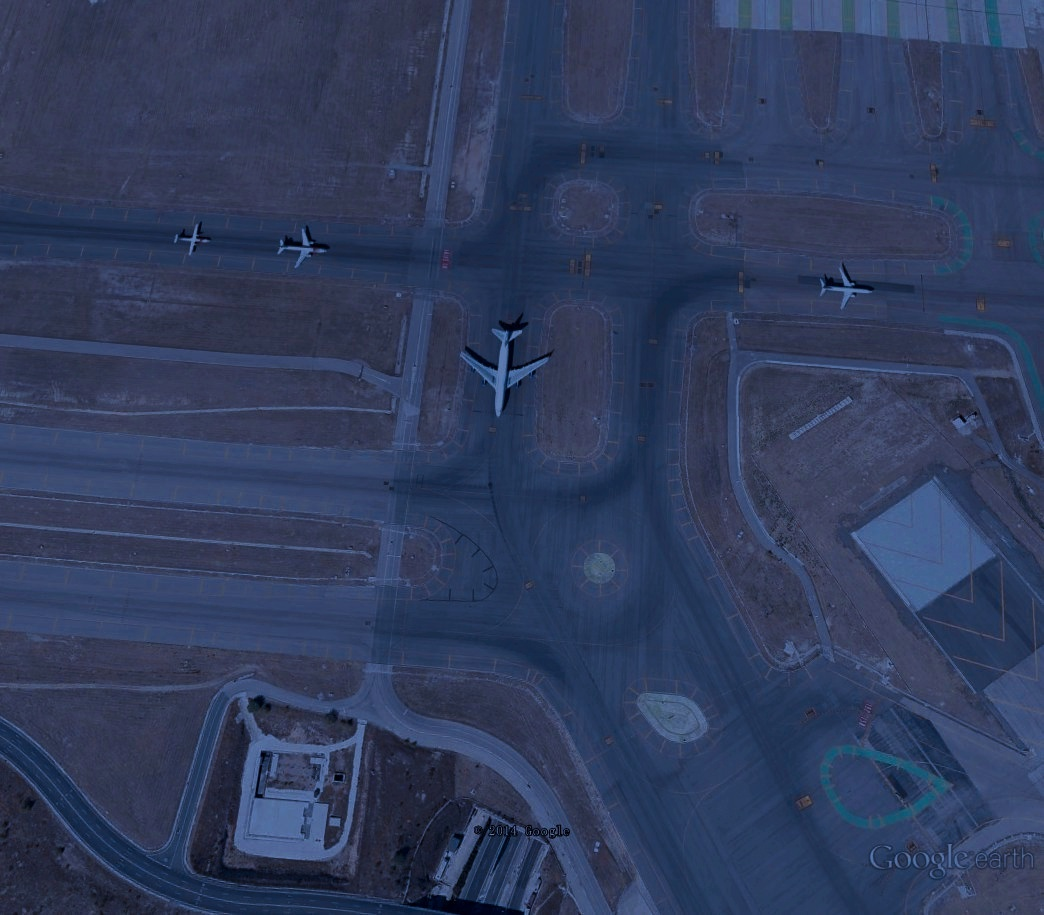aircraft: (457, 319, 556, 426), (816, 261, 874, 315), (277, 226, 328, 271), (171, 220, 213, 261)
